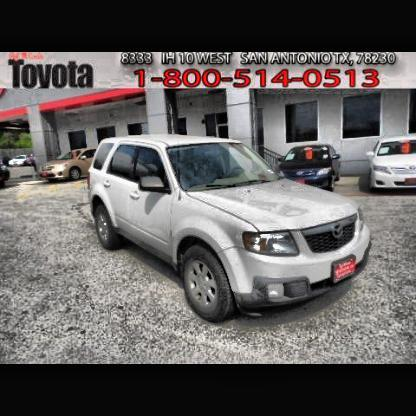Mazda Tribute SUV 2011: (88, 137, 373, 325)
